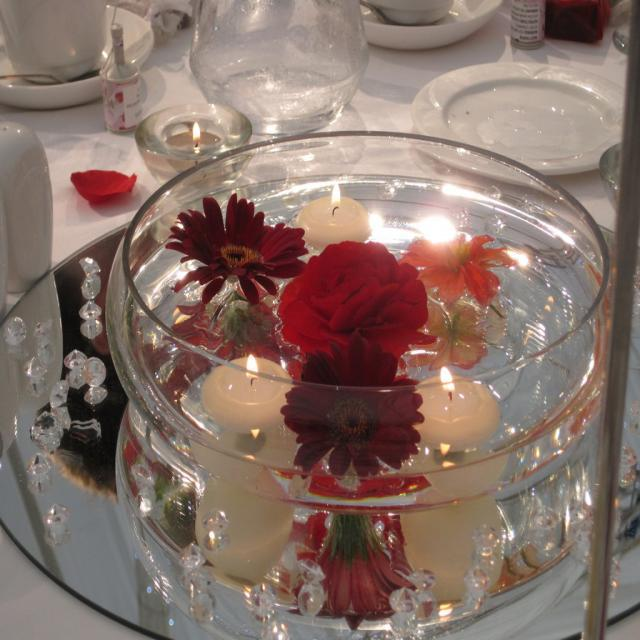ceramic plate: (410, 38, 640, 218)
